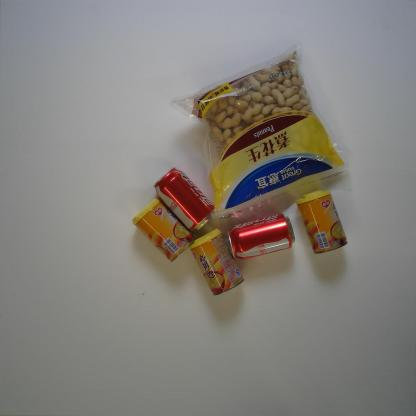Canned Food: (130, 198, 196, 262), (189, 228, 246, 296), (296, 187, 349, 255)
Dried Food: (171, 42, 352, 232)
Drink: (153, 166, 215, 234), (227, 213, 295, 261)
